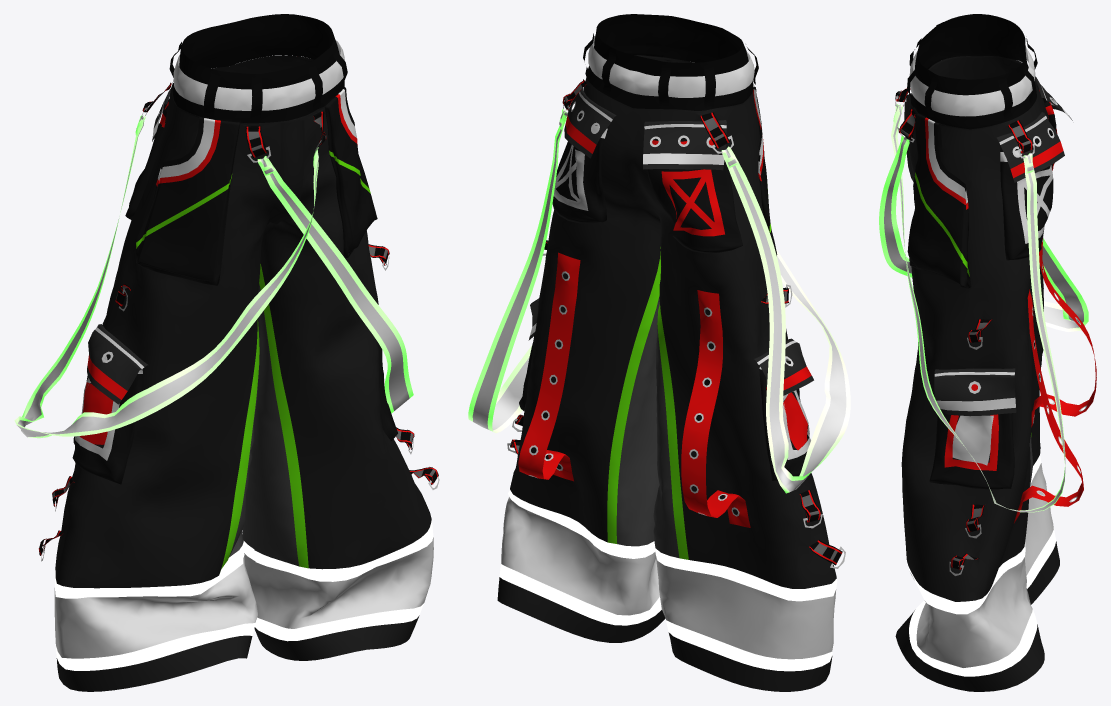
The picture shows the model from 3 angles, left to right: view 1: azimuth 30°, elevation 25°; view 2: azimuth 150°, elevation 25°; view 3: azimuth 270°, elevation 25°; orthographic projection. The views are drawn at different scales.
Parts seen in each view (by area): view 1: Rave Pants - black; view 2: Rave Pants - black; view 3: Rave Pants - black.
Boxes of the visible parts, x1=… form: Rave Pants - black: x1=14, y1=14, x2=439, y2=691; Rave Pants - black: x1=468, y1=14, x2=850, y2=691; Rave Pants - black: x1=879, y1=14, x2=1096, y2=691.
Bounding box in the file's own units: 0.7864 × 1.25 × 0.4237.
